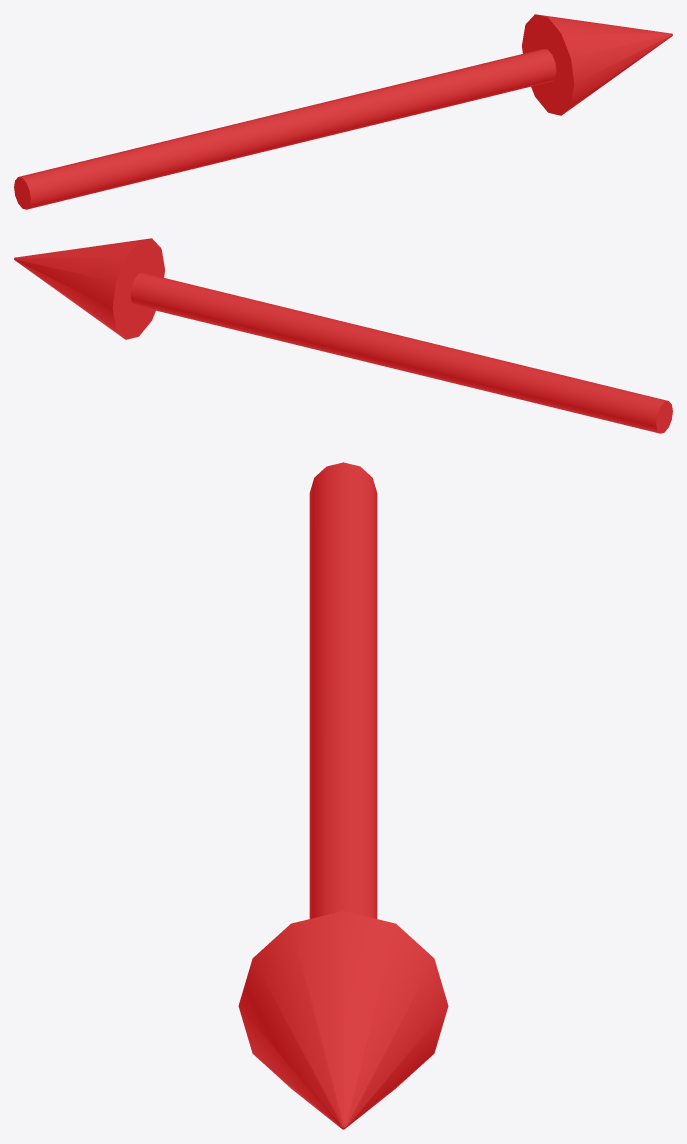
File: arrow.FBX
3 views of the same model, one above another, from view 1: azimuth 30°, elevation 25°; view 2: azimuth 150°, elevation 25°; view 3: azimuth 270°, elevation 25° (orthographic). The views are drawn at different scales.
Parts seen in each view (by area): view 1: arrow; view 2: arrow; view 3: arrow.
Boxes of the visible parts, bbox=[...] form: arrow: bbox=[14, 14, 672, 209]; arrow: bbox=[14, 238, 672, 433]; arrow: bbox=[238, 462, 448, 1129].
Size of the model in its own units: 48.76 by 6.82 by 6.82.
